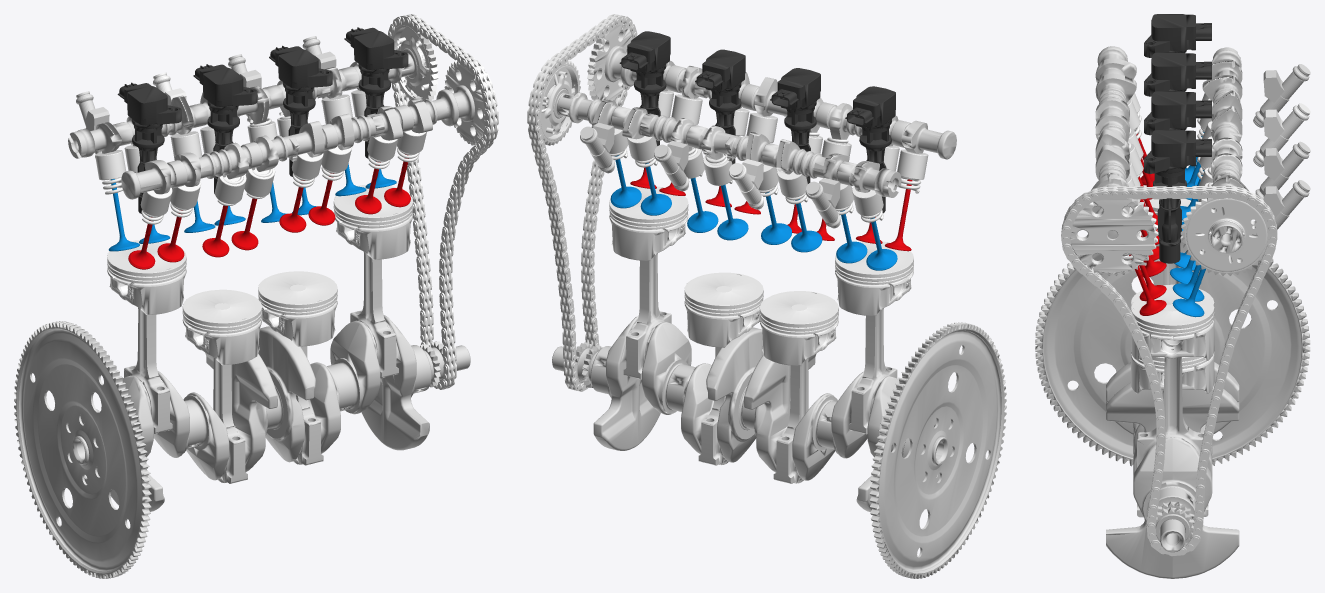
The model's file is engine3.glb.
3 renders of one model, left to right at view 1: azimuth 30°, elevation 25°; view 2: azimuth 150°, elevation 25°; view 3: azimuth 270°, elevation 25°, orthographic. The views are drawn at different scales.
Visible parts, largest first — view 1: TRUC KHUYU, BANH DA, TRUC CAM XA, XICH, TRUC CAM NAP, PISTON 2, PISTON 3, PISTON 1, PISTON 4, MOBIN 4, MOBIN 3, MOBIN 2 (+20 smaller); view 2: TRUC KHUYU, BANH DA, TRUC CAM NAP, XICH, TRUC CAM XA, PISTON 2, PISTON 3, PISTON 4, PISTON 1, MOBIN 4, MOBIN 3, MOBIN 2 (+27 smaller); view 3: BANH DA, TRUC KHUYU, XICH, TRUC CAM NAP, BANH RANG CAM XA, TRUC CAM XA, MOBIN 4, BANH RANG CAM NAP, PISTON 4, THANH TRUYEN 4, MOBIN 3, MOBIN 2 (+13 smaller).
Boxes of the visible parts, x1,y1,x2,y2 form: TRUC KHUYU: [68, 315, 470, 511]; BANH DA: [14, 321, 151, 578]; TRUC CAM XA: [121, 85, 474, 199]; XICH: [388, 14, 498, 389]; TRUC CAM NAP: [68, 48, 426, 158]; PISTON 2: [182, 289, 262, 364]; PISTON 3: [258, 271, 337, 346]; PISTON 1: [107, 240, 186, 314]; PISTON 4: [333, 185, 413, 259]; MOBIN 4: [344, 27, 408, 158]; MOBIN 3: [269, 45, 332, 176]; MOBIN 2: [193, 64, 257, 193]; TRUC KHUYU: [552, 316, 952, 511]; BANH DA: [869, 322, 1006, 578]; TRUC CAM NAP: [553, 88, 901, 197]; XICH: [527, 14, 637, 391]; TRUC CAM XA: [604, 45, 956, 159]; PISTON 2: [759, 291, 838, 365]; PISTON 3: [684, 272, 763, 347]; PISTON 4: [609, 186, 688, 260]; PISTON 1: [835, 241, 913, 315]; MOBIN 4: [619, 31, 670, 145]; MOBIN 3: [695, 49, 745, 164]; MOBIN 2: [770, 68, 820, 183]; BANH DA: [1035, 241, 1310, 466]; TRUC KHUYU: [1106, 346, 1239, 578]; XICH: [1061, 186, 1277, 556]; TRUC CAM NAP: [1202, 47, 1249, 253]; BANH RANG CAM XA: [1070, 198, 1158, 275]; TRUC CAM XA: [1091, 46, 1136, 238]; MOBIN 4: [1144, 130, 1211, 263]; BANH RANG CAM NAP: [1186, 198, 1267, 271]; PISTON 4: [1131, 290, 1214, 360]; THANH TRUYEN 4: [1137, 340, 1208, 467]; MOBIN 3: [1144, 91, 1211, 207]; MOBIN 2: [1144, 52, 1211, 96].
Bounding box in the file's own units: 0.4226 × 0.481 × 0.2493.
